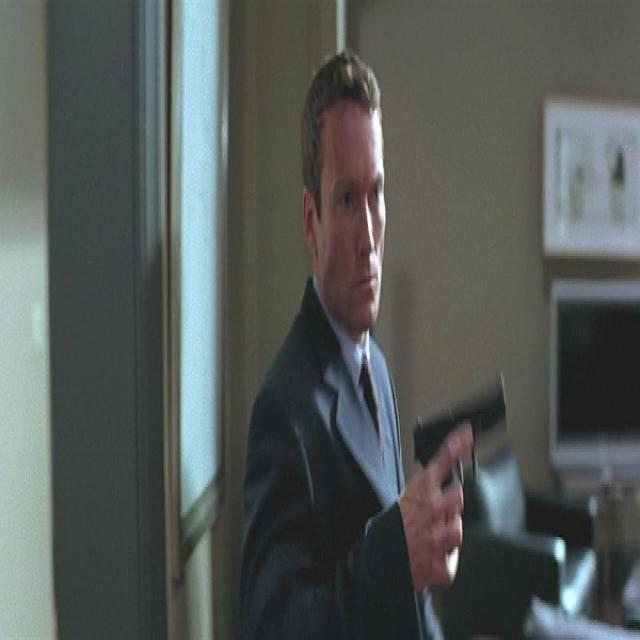weapons: (408, 374, 516, 591)
